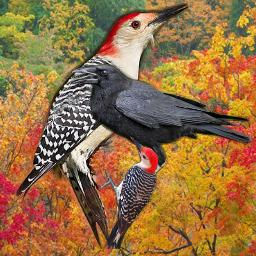Crow: (71, 64, 254, 199)
Woodpecker: (13, 3, 188, 252), (98, 136, 158, 249)
